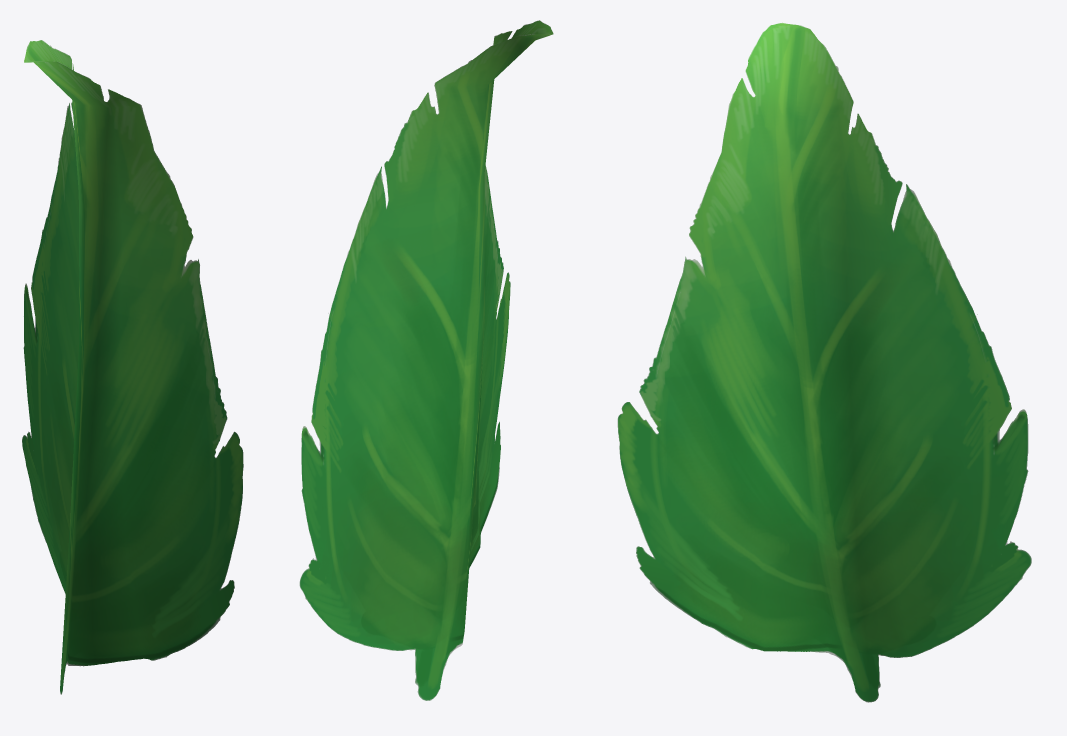
File: bigleafA.fbx
The picture shows the model from 3 angles, left to right: view 1: azimuth 30°, elevation 25°; view 2: azimuth 150°, elevation 25°; view 3: azimuth 270°, elevation 25°; orthographic projection. The views are drawn at different scales.
Parts seen in each view (by area): view 1: big_leaf1; view 2: big_leaf1; view 3: big_leaf1.
Boxes of the visible parts, x1=… form: big_leaf1: x1=22, y1=40, x2=243, y2=694; big_leaf1: x1=299, y1=20, x2=553, y2=700; big_leaf1: x1=617, y1=22, x2=1031, y2=702.
Bounding box in the file's own units: 1.5 × 7.12 × 4.35.
